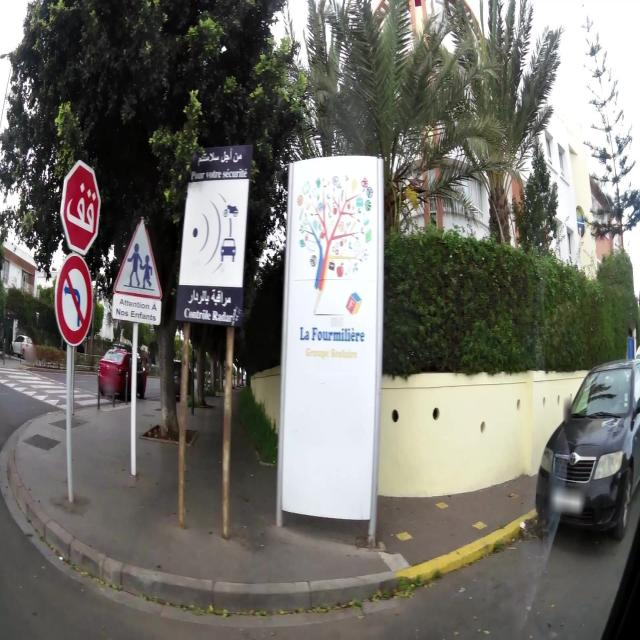car: (533, 356, 640, 546), (97, 342, 147, 402), (10, 333, 34, 359)
